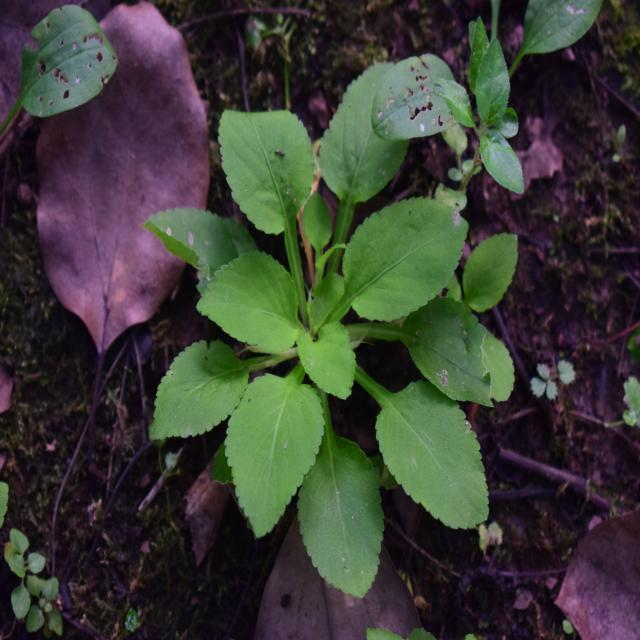Viola: (134, 91, 488, 584)
